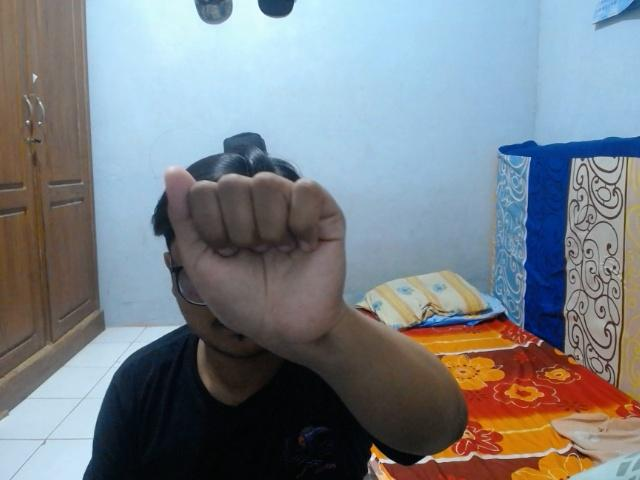Grab: (160, 162, 354, 358)
